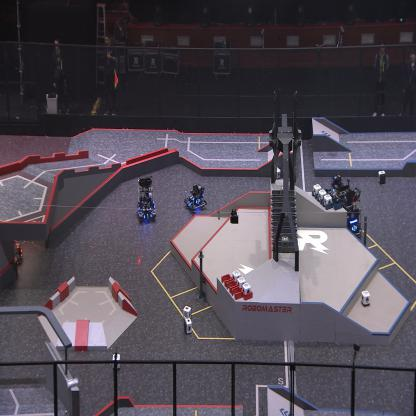car: (334, 185, 362, 237), (135, 176, 156, 221), (183, 183, 207, 212), (1, 234, 22, 266), (330, 172, 345, 196)
